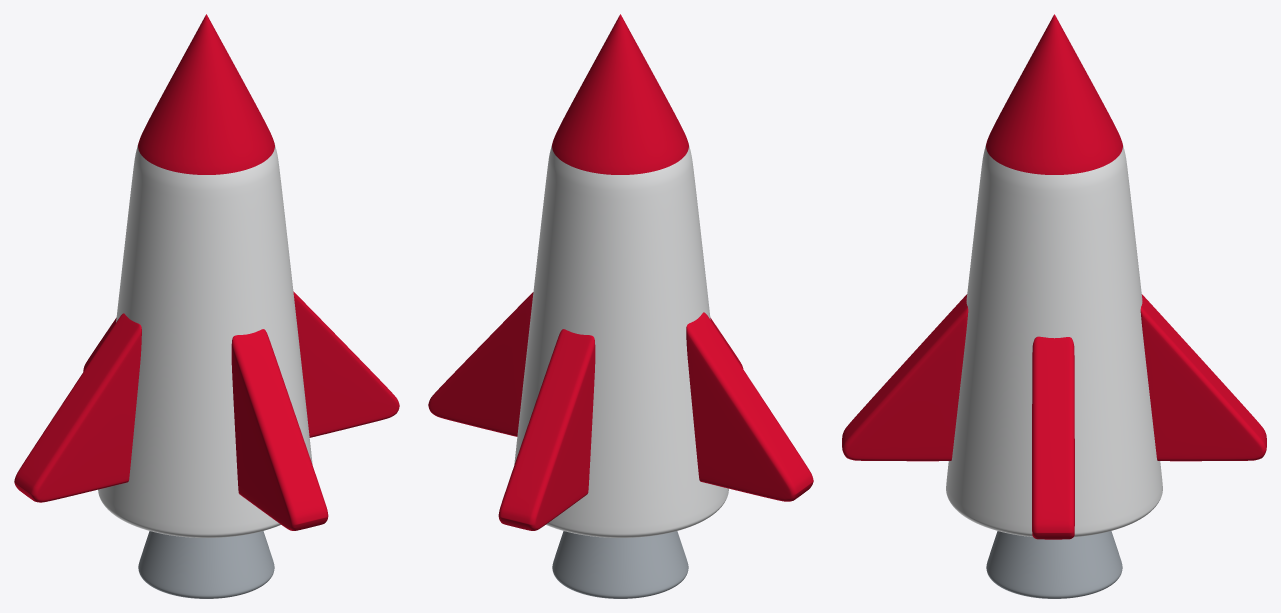
The model's file is Emitter1.fbx.
3 renders of one model, left to right at view 1: azimuth 30°, elevation 25°; view 2: azimuth 150°, elevation 25°; view 3: azimuth 270°, elevation 25°, orthographic.
Parts seen in each view (by area): view 1: Cylinder, Plane, Plane.001; view 2: Cylinder, Plane, Plane.001; view 3: Cylinder, Plane.001, Plane.
Boxes of the visible parts, <box> form: Cylinder: <box>98,14,312,598</box>; Plane: <box>14,291,399,502</box>; Plane.001: <box>83,317,328,530</box>; Cylinder: <box>514,14,728,598</box>; Plane: <box>428,292,813,501</box>; Plane.001: <box>498,317,743,530</box>; Cylinder: <box>946,14,1162,598</box>; Plane.001: <box>842,294,1266,461</box>; Plane: <box>1032,336,1074,539</box>.
Bounding box in the file's own units: 541 × 783 × 540.
